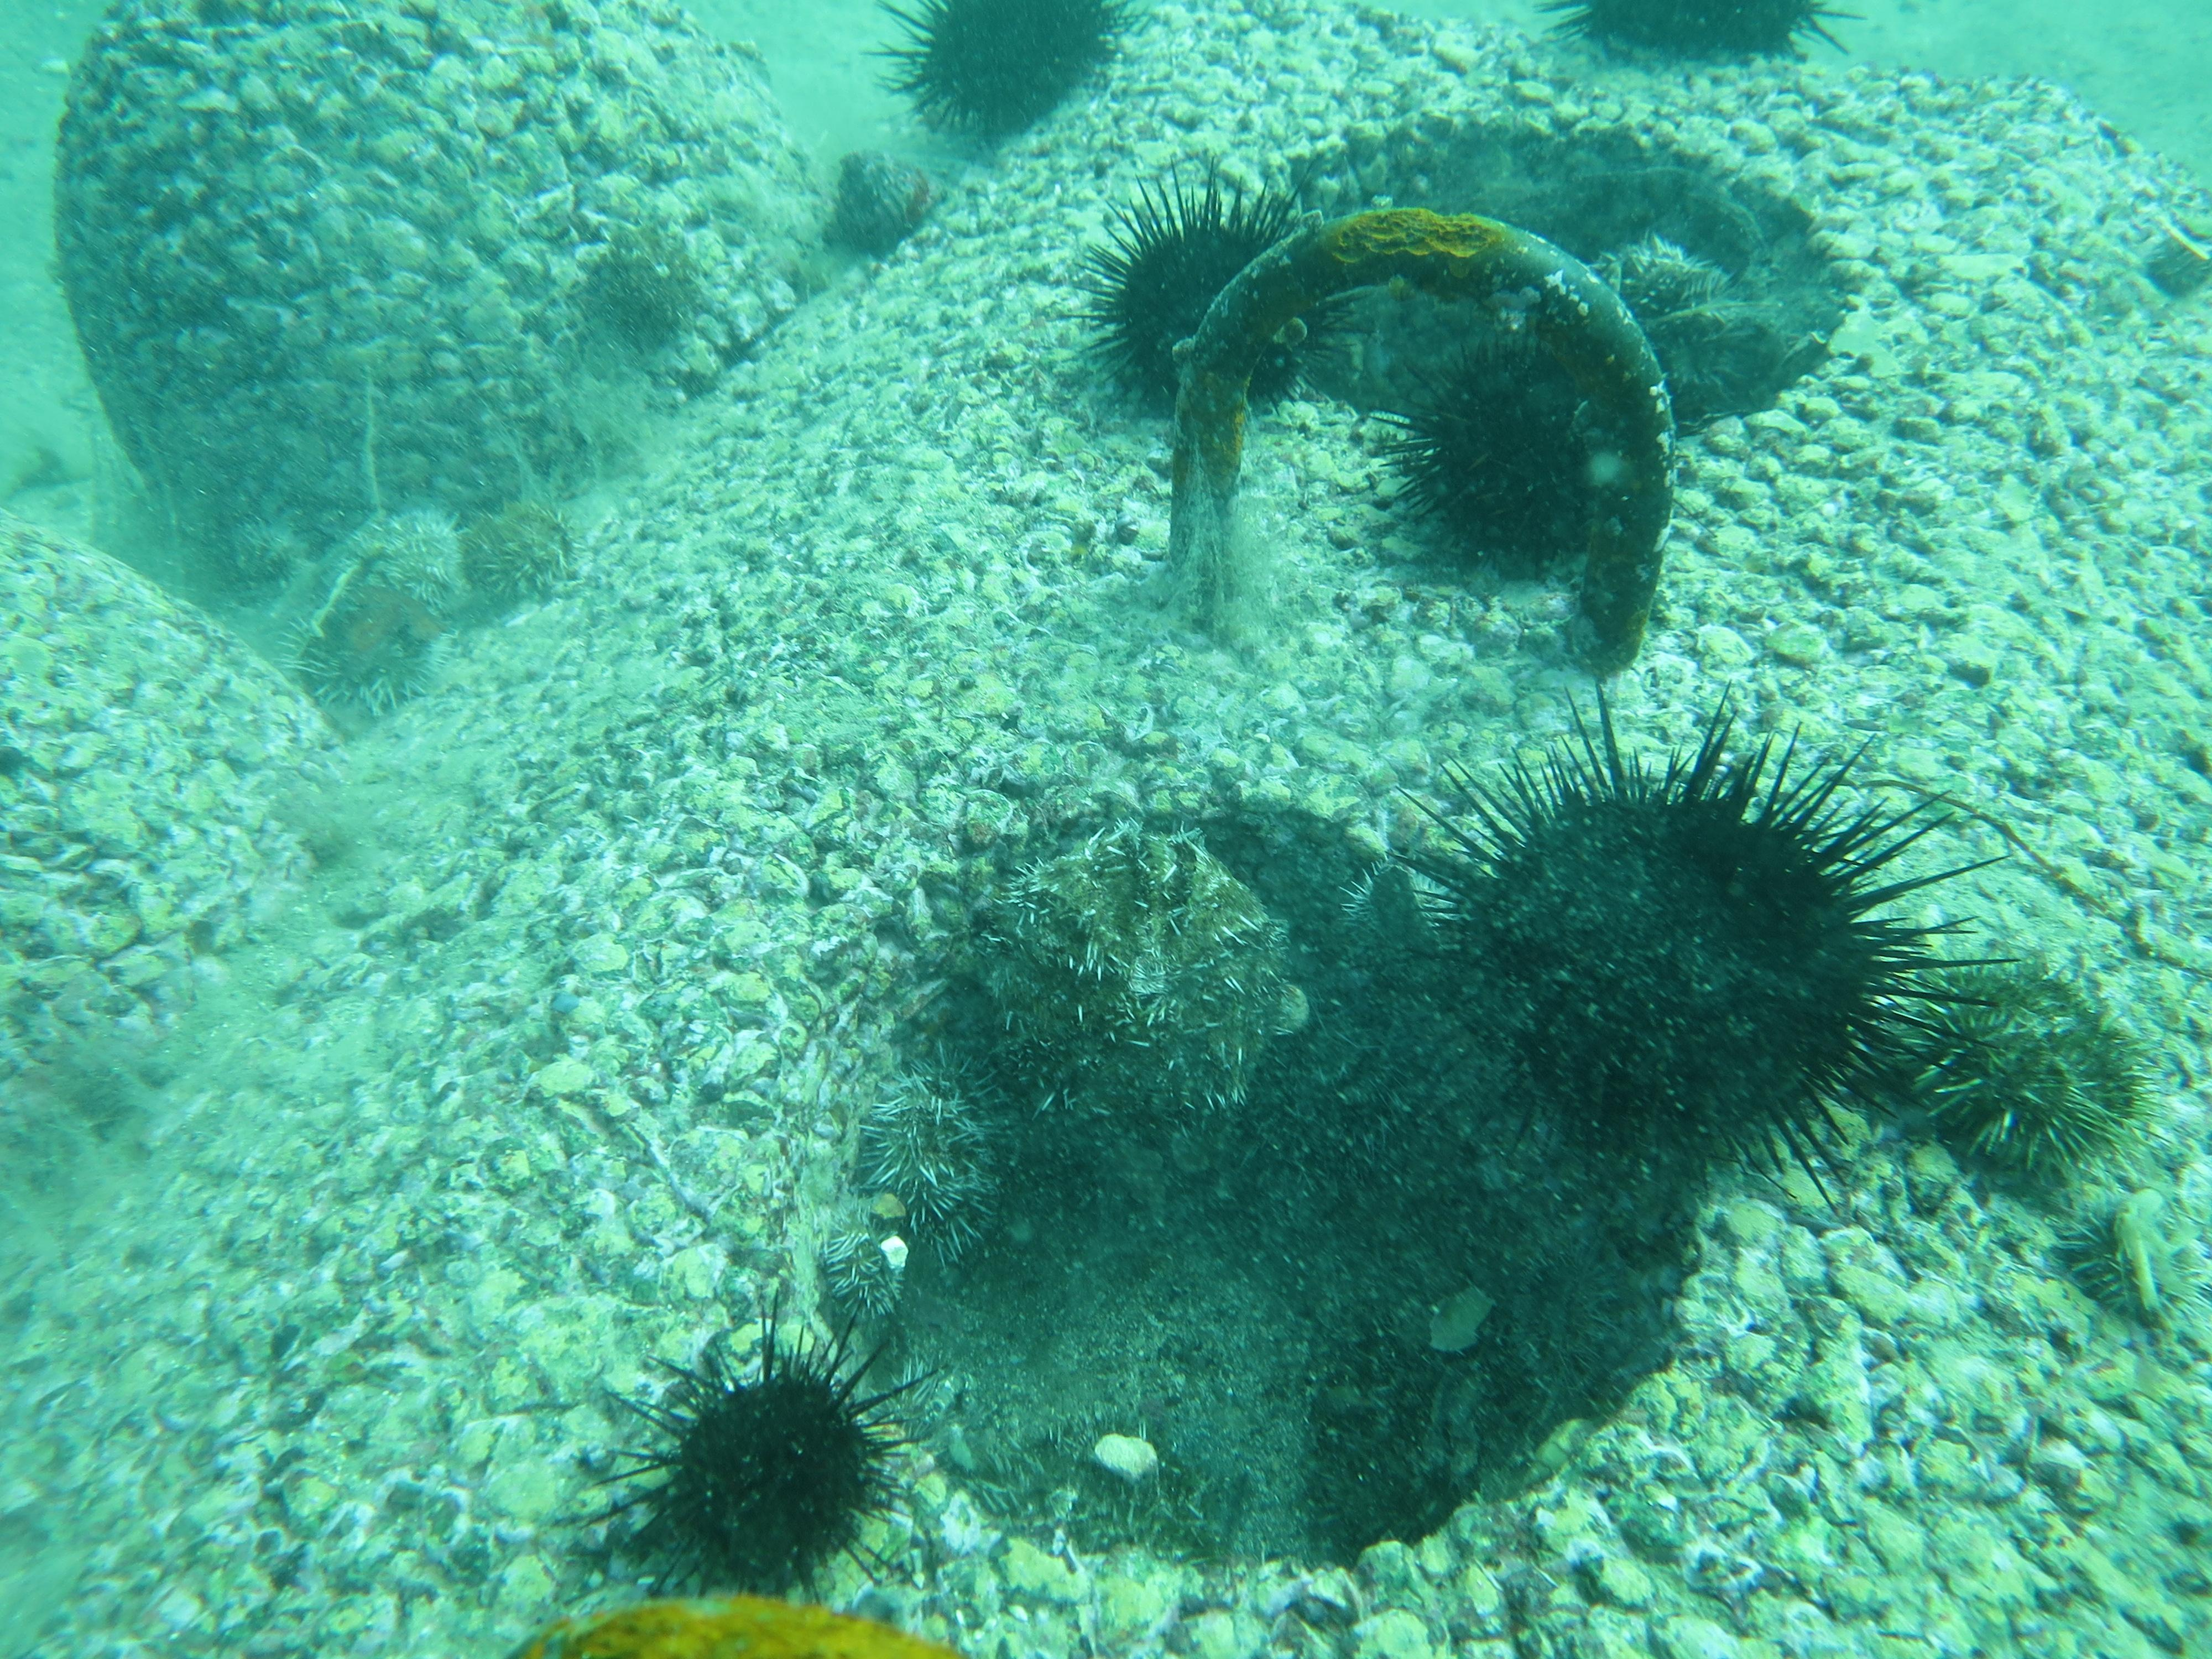urchin: (1400, 699, 1994, 1223), (563, 1302, 927, 1605), (0, 962, 296, 1283)
